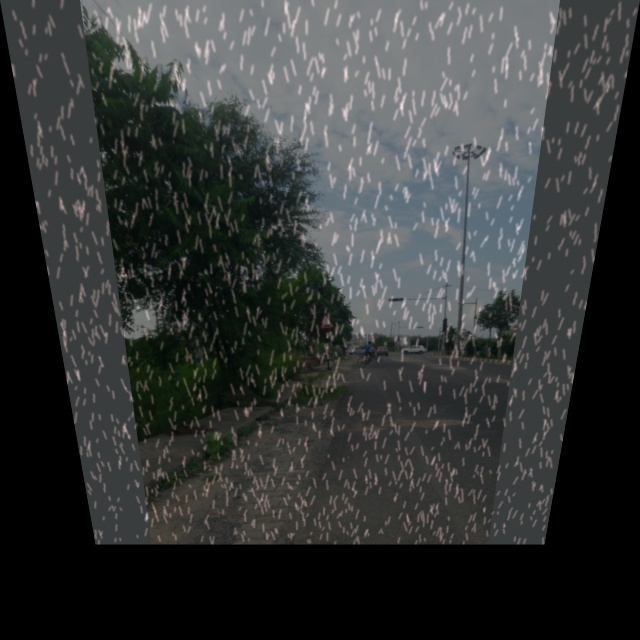Hump_or_Rough_Road: (318, 314, 334, 330)
